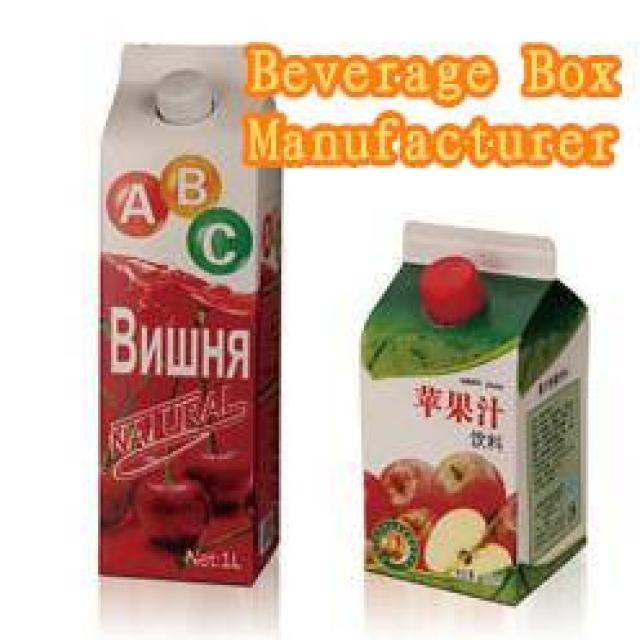Carton: (90, 36, 302, 602), (350, 206, 611, 624)
